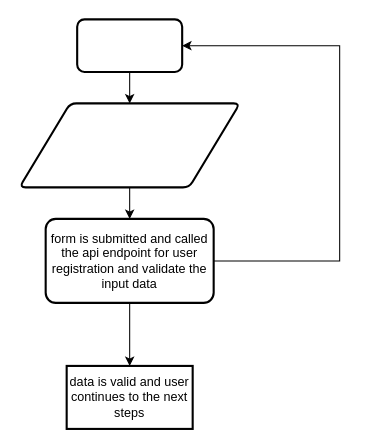
Image size: 366x447. Some labels were removed from this diagram. Here are the shapes that lost their labels. From the top down, the centre of each, then its label:
At pixel 129 45: "User go to registeration page".
At pixel 129 145: "user inputs his username password, email and other necessary information".
